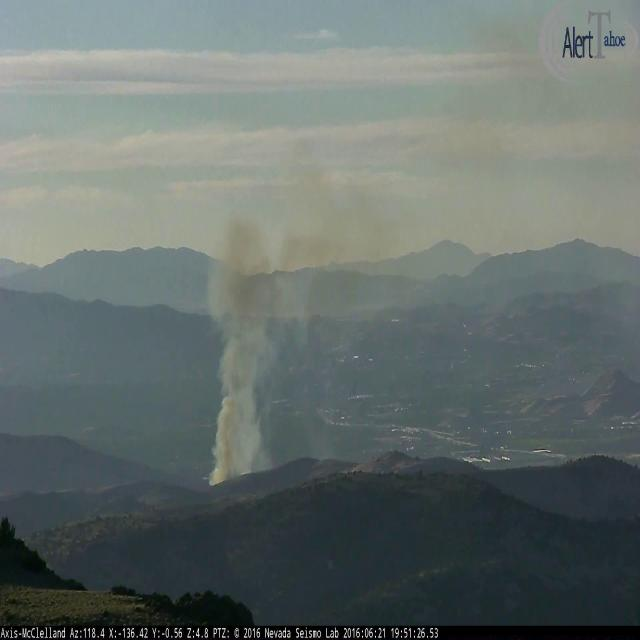smoke: (205, 15, 536, 486)
